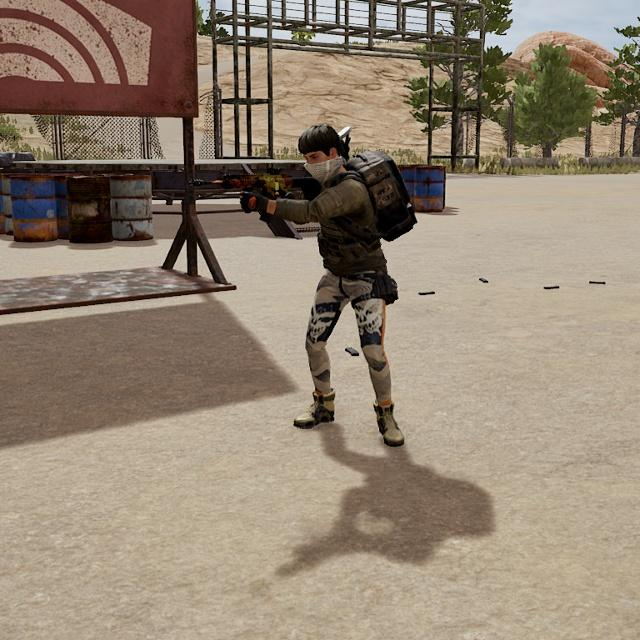head: (294, 121, 350, 189)
people: (261, 119, 416, 454)
